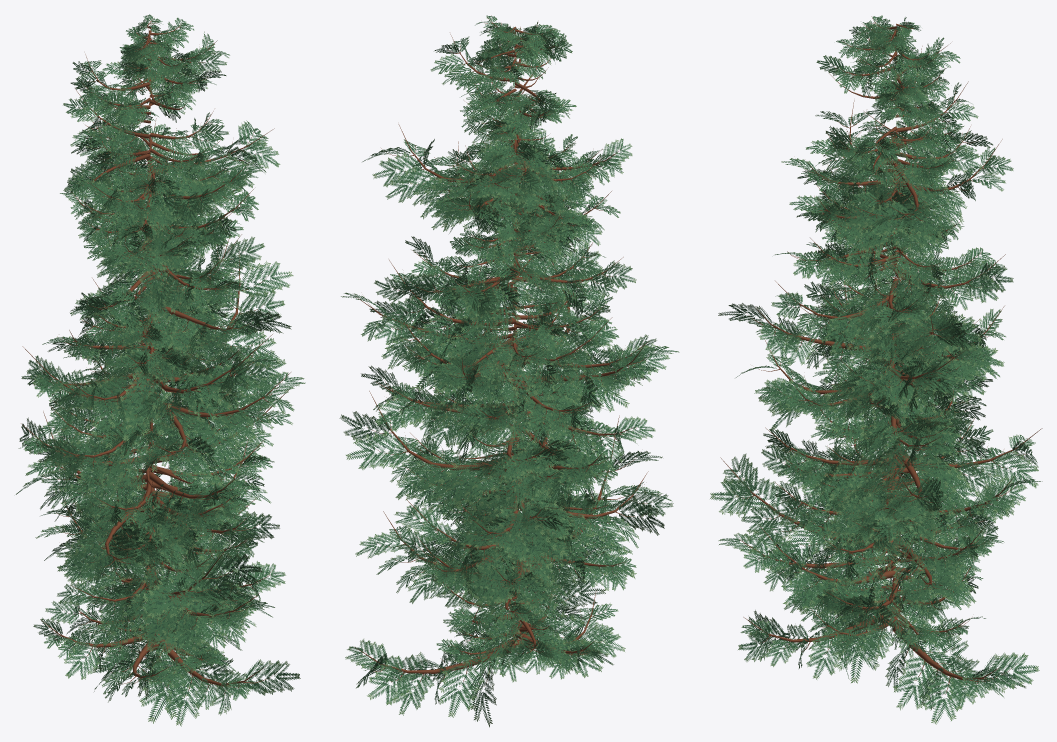
File: forest-redwood-lod0.meshopt.glb
3 views of the same model, side by side, from view 1: azimuth 30°, elevation 25°; view 2: azimuth 150°, elevation 25°; view 3: azimuth 270°, elevation 25° (orthographic). The views are drawn at different scales.
Parts seen in each view (by area): view 1: redwood-crown; view 2: redwood-crown; view 3: redwood-crown.
Part boxes in pixels (box(x1,y1,x2,y2)): redwood-crown: box(16, 14, 305, 726); redwood-crown: box(339, 15, 679, 727); redwood-crown: box(710, 15, 1042, 724).
Size of the model in its own units: 21.16 by 45.63 by 20.98.
7 materials, 3 textured.
